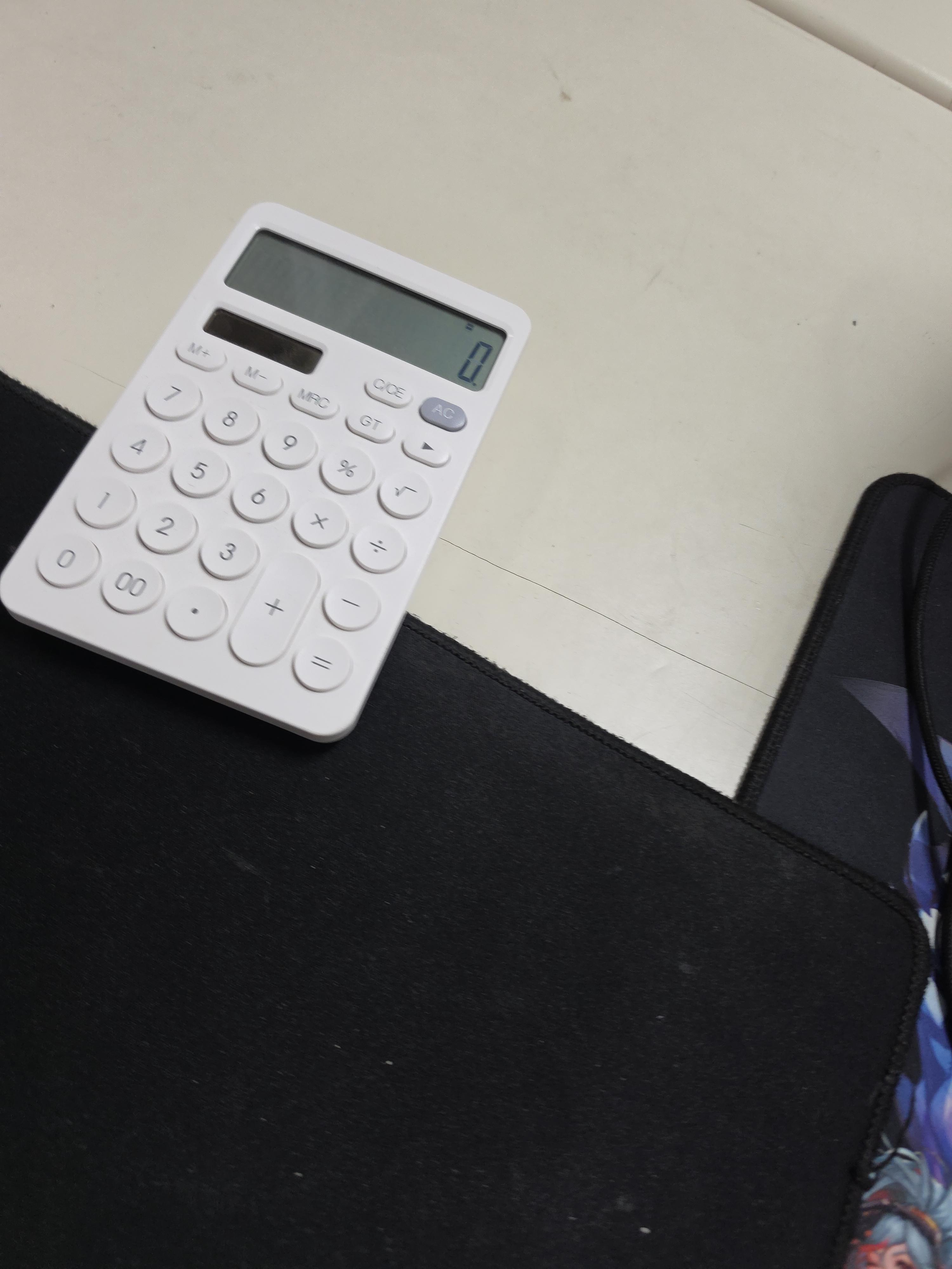calculator: (0, 202, 531, 742)
